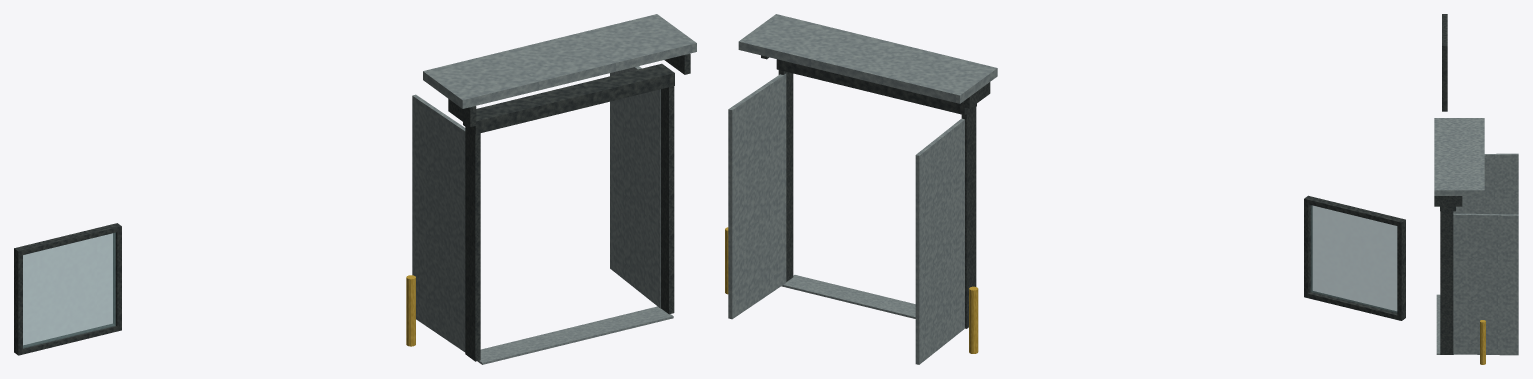
File: PZ_Northline_RearLoading_Prefab.glb
3 views of the same model, side by side, from view 1: azimuth 30°, elevation 25°; view 2: azimuth 150°, elevation 25°; view 3: azimuth 270°, elevation 25° (orthographic). The views are drawn at different scales.
Parts seen in each view (by area): view 1: MOVING_DOORS__Loading_Steel_Leaf_Left_OPEN, ROOF__Loading_Canopy_Deck, MOVING_DOORS__Loading_Steel_Leaf_Right_OPEN, SIDE_GLAZING__Rear_Service_BreakableGlass, TRIM__Loading_Overhead_Lintel, TRIM__Loading_Door_Jamb_0, TRIM__Loading_Door_Jamb_1, TRIM__Loading_Threshold, SIDE_GLAZING__Rear_Service_Window_Frame_3, SIDE_GLAZING__Rear_Service_Window_Frame_0, SIDE_GLAZING__Rear_Service_Window_Frame_2, SIDE_GLAZING__Rear_Service_Window_Frame_1 (+1 smaller); view 2: MOVING_DOORS__Loading_Steel_Leaf_Right_OPEN, MOVING_DOORS__Loading_Steel_Leaf_Left_OPEN, ROOF__Loading_Canopy_Deck, SIDE_GLAZING__Rear_Service_BreakableGlass, TRIM__Loading_Door_Jamb_0, TRIM__Loading_Overhead_Lintel, TRIM__Loading_Threshold, TRIM__Loading_Door_Jamb_1, SIDE_GLAZING__Rear_Service_Window_Frame_0, SIDE_GLAZING__Rear_Service_Window_Frame_3, SIDE_GLAZING__Rear_Service_Window_Frame_1, SIDE_GLAZING__Rear_Service_Window_Frame_2 (+1 smaller); view 3: MOVING_DOORS__Loading_Steel_Leaf_Right_OPEN, ROOF__Loading_Canopy_Deck, MOVING_DOORS__Loading_Steel_Leaf_Left_OPEN, TRIM__Loading_Door_Jamb_1, SIDE_GLAZING__Rear_Service_Window_Frame_1, ROOF__Loading_Canopy_Bracket_961, TRIM__Loading_Threshold, ACCESSORIES__Loading_Bollard_1, SIDE_GLAZING__Rear_Service_Window_Frame_3.
Part boxes in pixels (<box>): MOVING_DOORS__Loading_Steel_Leaf_Left_OPEN: <box>412,94,465,352</box>; ROOF__Loading_Canopy_Deck: <box>423,14,696,108</box>; MOVING_DOORS__Loading_Steel_Leaf_Right_OPEN: <box>610,66,660,308</box>; SIDE_GLAZING__Rear_Service_BreakableGlass: <box>23,232,115,348</box>; TRIM__Loading_Overhead_Lintel: <box>463,63,674,134</box>; TRIM__Loading_Door_Jamb_0: <box>465,124,480,361</box>; TRIM__Loading_Door_Jamb_1: <box>661,86,674,314</box>; TRIM__Loading_Threshold: <box>477,306,673,364</box>; SIDE_GLAZING__Rear_Service_Window_Frame_3: <box>14,223,121,254</box>; SIDE_GLAZING__Rear_Service_Window_Frame_0: <box>14,247,22,355</box>; SIDE_GLAZING__Rear_Service_Window_Frame_2: <box>14,324,121,354</box>; SIDE_GLAZING__Rear_Service_Window_Frame_1: <box>113,223,121,331</box>; MOVING_DOORS__Loading_Steel_Leaf_Right_OPEN: <box>728,73,786,319</box>; MOVING_DOORS__Loading_Steel_Leaf_Left_OPEN: <box>915,118,964,364</box>; ROOF__Loading_Canopy_Deck: <box>738,14,997,103</box>; SIDE_GLAZING__Rear_Service_BreakableGlass: <box>1311,205,1397,312</box>; TRIM__Loading_Door_Jamb_0: <box>961,104,976,328</box>; TRIM__Loading_Overhead_Lintel: <box>776,59,976,115</box>; TRIM__Loading_Threshold: <box>781,275,915,318</box>; TRIM__Loading_Door_Jamb_1: <box>778,70,793,281</box>; SIDE_GLAZING__Rear_Service_Window_Frame_0: <box>1397,219,1405,320</box>; SIDE_GLAZING__Rear_Service_Window_Frame_3: <box>1304,196,1405,226</box>; SIDE_GLAZING__Rear_Service_Window_Frame_1: <box>1304,196,1312,297</box>; SIDE_GLAZING__Rear_Service_Window_Frame_2: <box>1304,291,1405,320</box>; MOVING_DOORS__Loading_Steel_Leaf_Right_OPEN: <box>1453,213,1518,355</box>; ROOF__Loading_Canopy_Deck: <box>1434,118,1484,195</box>; MOVING_DOORS__Loading_Steel_Leaf_Left_OPEN: <box>1453,153,1518,214</box>; TRIM__Loading_Door_Jamb_1: <box>1440,208,1453,354</box>; SIDE_GLAZING__Rear_Service_Window_Frame_1: <box>1442,44,1447,111</box>; ROOF__Loading_Canopy_Bracket_961: <box>1434,196,1462,206</box>; TRIM__Loading_Threshold: <box>1436,294,1454,354</box>; ACCESSORIES__Loading_Bollard_1: <box>1480,320,1485,364</box>; SIDE_GLAZING__Rear_Service_Window_Frame_3: <box>1442,14,1447,47</box>.
Bounding box in the file's own units: 8.97 × 3.38 × 1.51.
4 materials, 4 textured.
